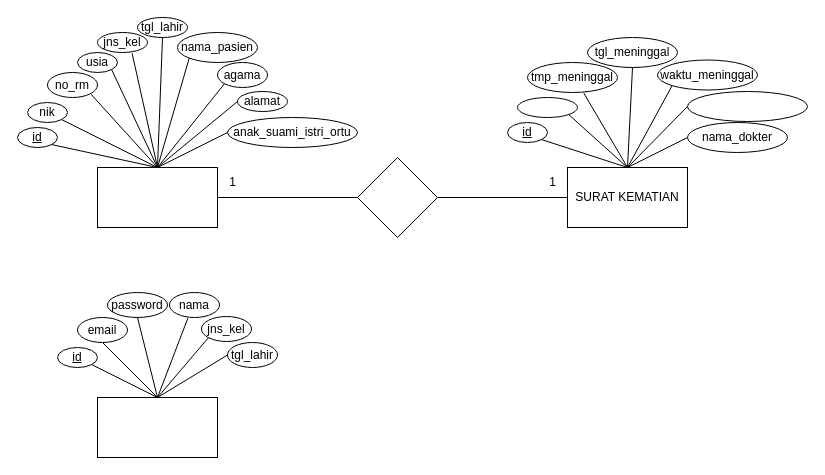
Image size: 825x475. Some labels were removed from this diagram. Here are the shapes that lost their labels. From the top down, the centre of each, then its label:
At pixel 547 107: "id_pasien".
At pixel 747 106: "penyebab_kematian".
At pixel 157 197: "PASIEN".
At pixel 397 197: "Memiliki".
At pixel 157 427: "USERS".
